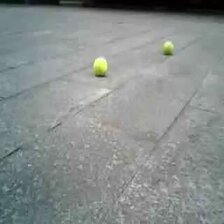tennis: (92, 57, 108, 74), (163, 40, 174, 54)
